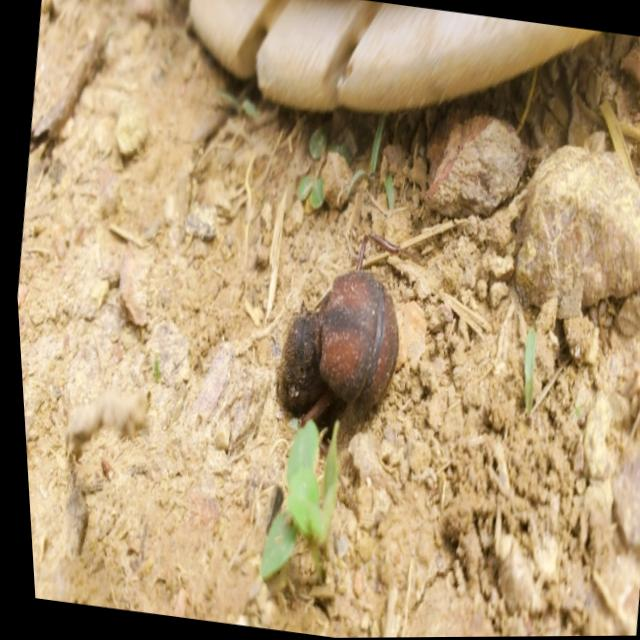Alive-Female-Dealate: (236, 217, 416, 468)
